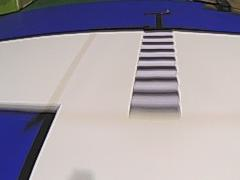CrossWalk: (126, 28, 182, 122)
